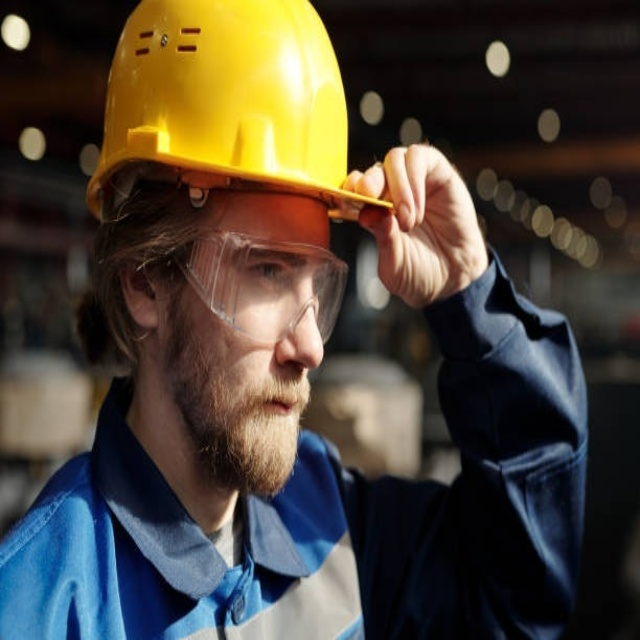Gafas: (154, 227, 351, 347)
Sin_guantes: (341, 141, 487, 313)
Sin_mascara: (238, 380, 312, 461)
